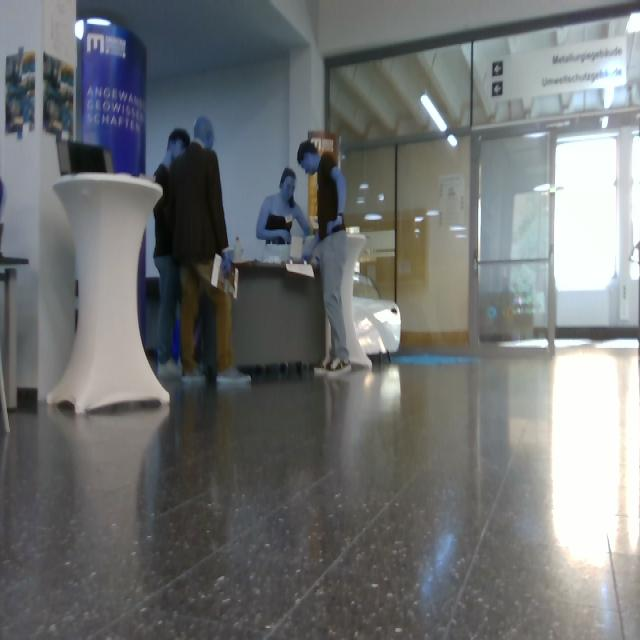desk: (233, 265, 325, 365)
door: (326, 1, 640, 361)
light bulb: (421, 94, 447, 132), (76, 20, 84, 41), (448, 134, 458, 148)
person: (170, 118, 250, 386), (299, 141, 352, 376), (154, 129, 190, 379), (257, 168, 310, 262)
pillar: (1, 1, 76, 400)
table: (48, 174, 169, 414)
tiled floor: (1, 350, 640, 640)
